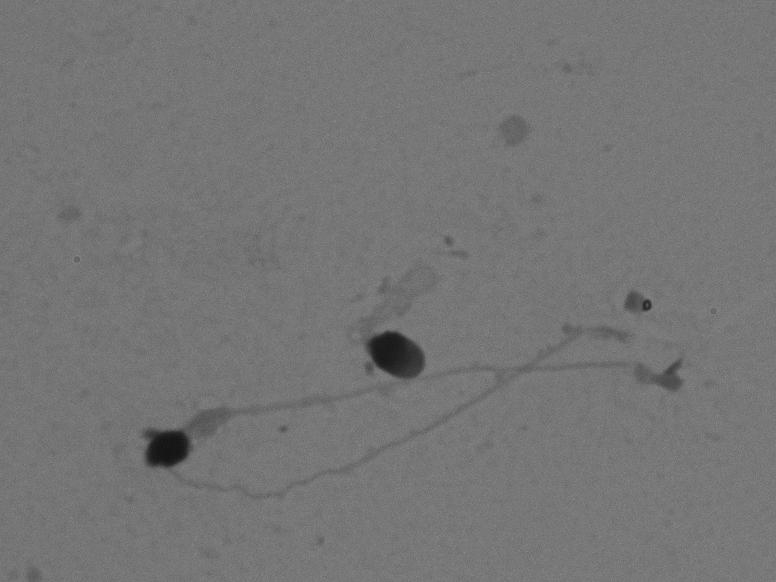Abnormal: (64, 313, 710, 483), (333, 245, 451, 392)
